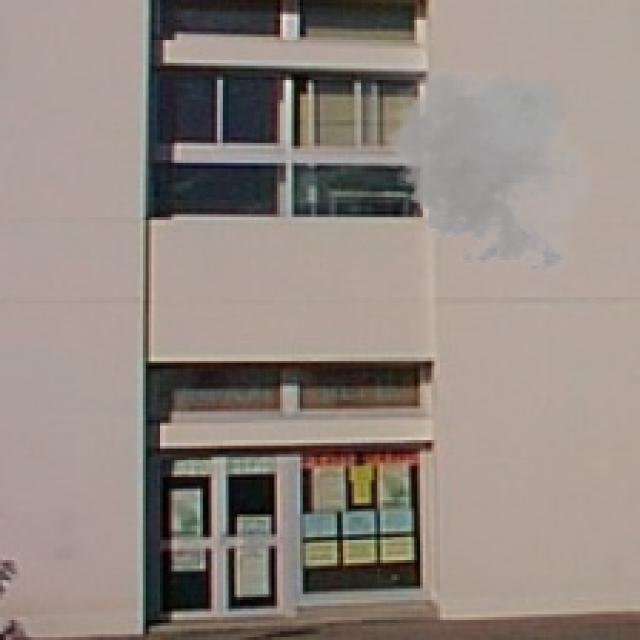Smoke: (380, 60, 603, 280)
